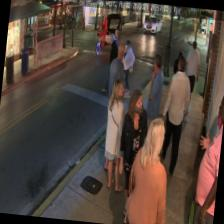person: (123, 115, 173, 224), (112, 88, 151, 220), (189, 91, 224, 224), (156, 56, 194, 176), (99, 78, 128, 190), (141, 53, 166, 158)
